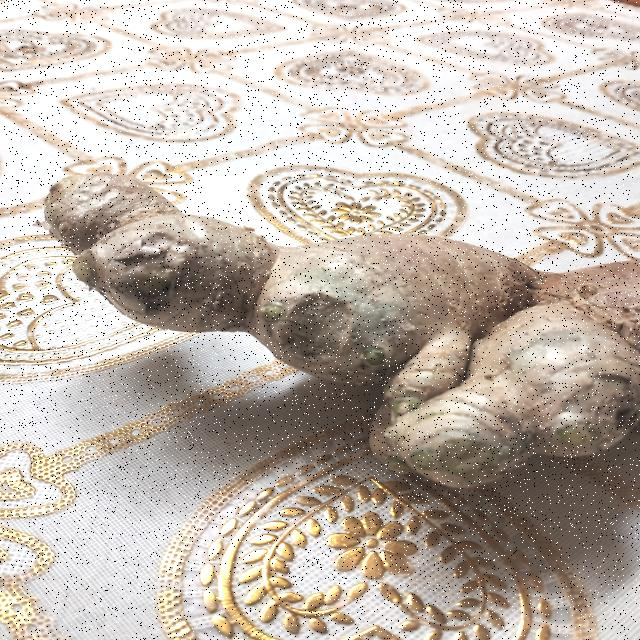ginger: (35, 155, 640, 498)
